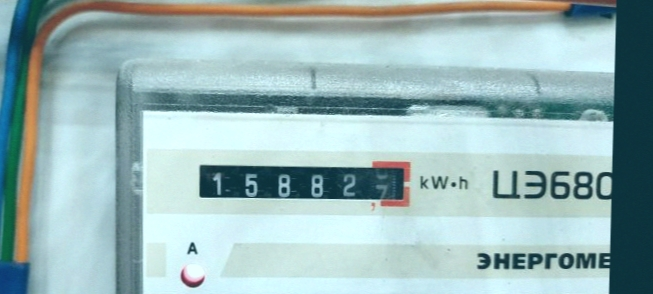1: (209, 165, 224, 193)
2: (340, 167, 357, 195)
5: (241, 167, 260, 194)
7: (372, 178, 389, 195)
8: (274, 167, 291, 196), (308, 167, 324, 196)
screen: (184, 144, 420, 212)
